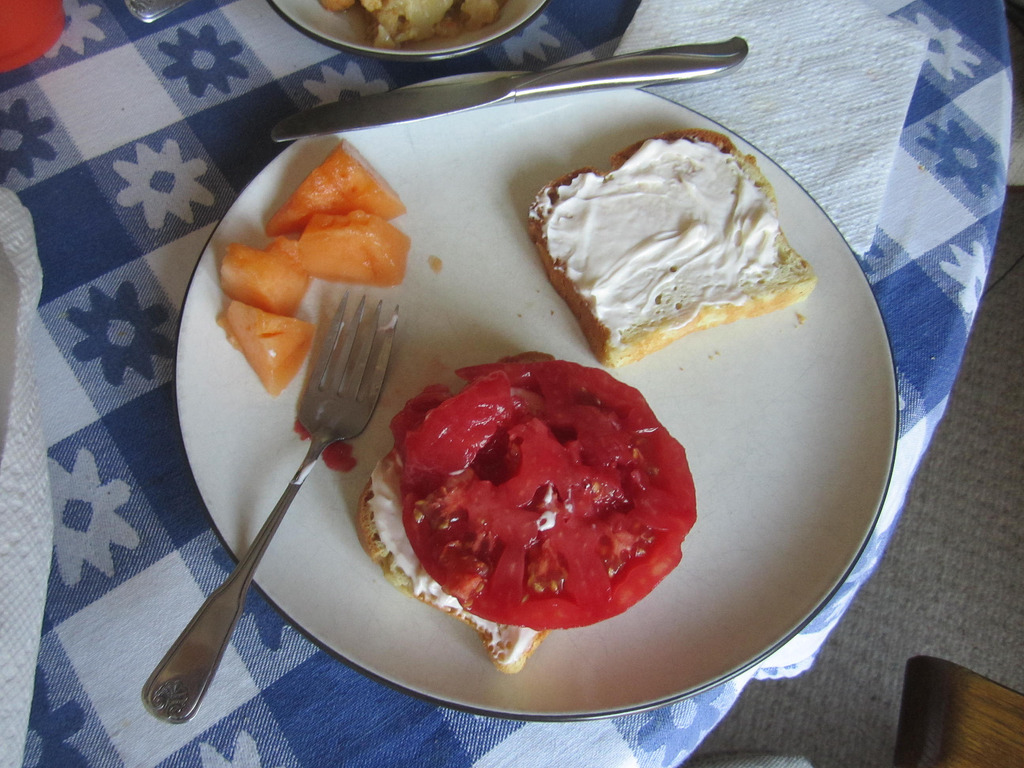slice of bread: (535, 126, 811, 362)
